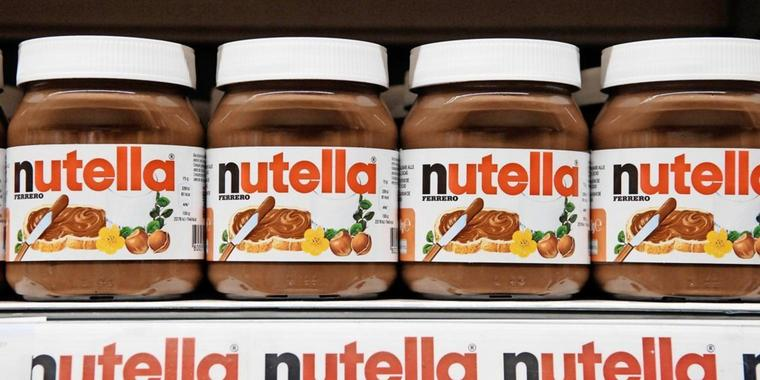nutella: (5, 36, 203, 302), (205, 35, 397, 300), (399, 36, 590, 301), (591, 36, 760, 302)
